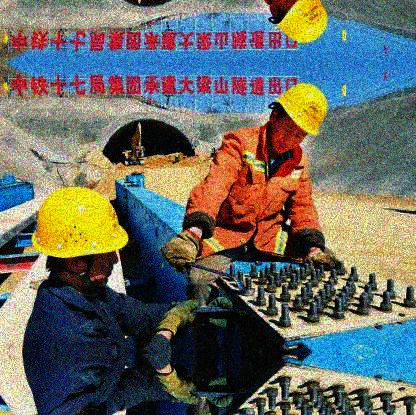helmet: (30, 186, 130, 286), (270, 82, 328, 157)
